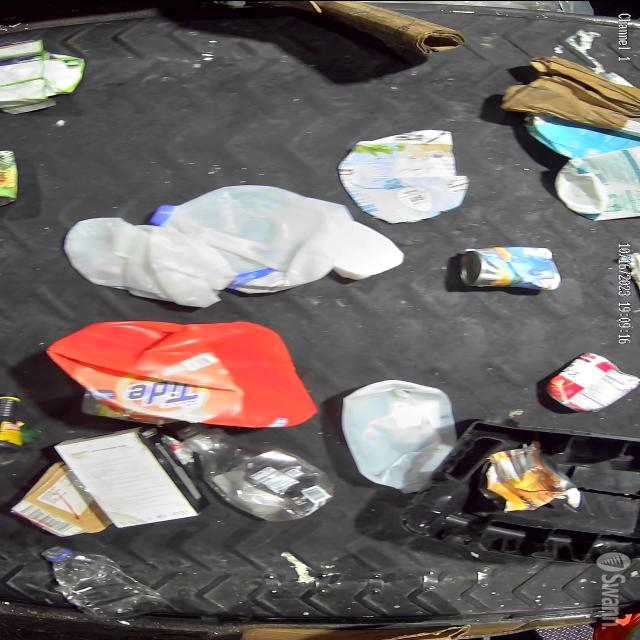can: (476, 440, 580, 513), (540, 350, 640, 412), (458, 244, 560, 292)
milk_jug: (148, 182, 352, 296), (60, 214, 234, 308), (340, 378, 462, 495), (554, 145, 640, 221)
non_white_jug: (42, 316, 322, 428), (526, 116, 640, 160)
plastic_bottle: (169, 422, 340, 524), (41, 544, 167, 622)
